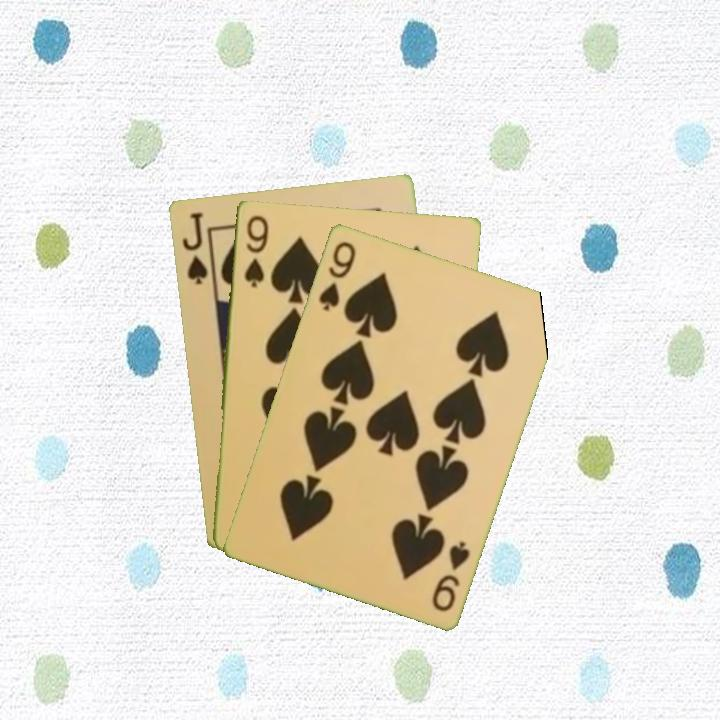9s: (428, 537, 473, 614), (314, 237, 359, 313), (240, 211, 271, 290)
Js: (178, 208, 210, 287)
